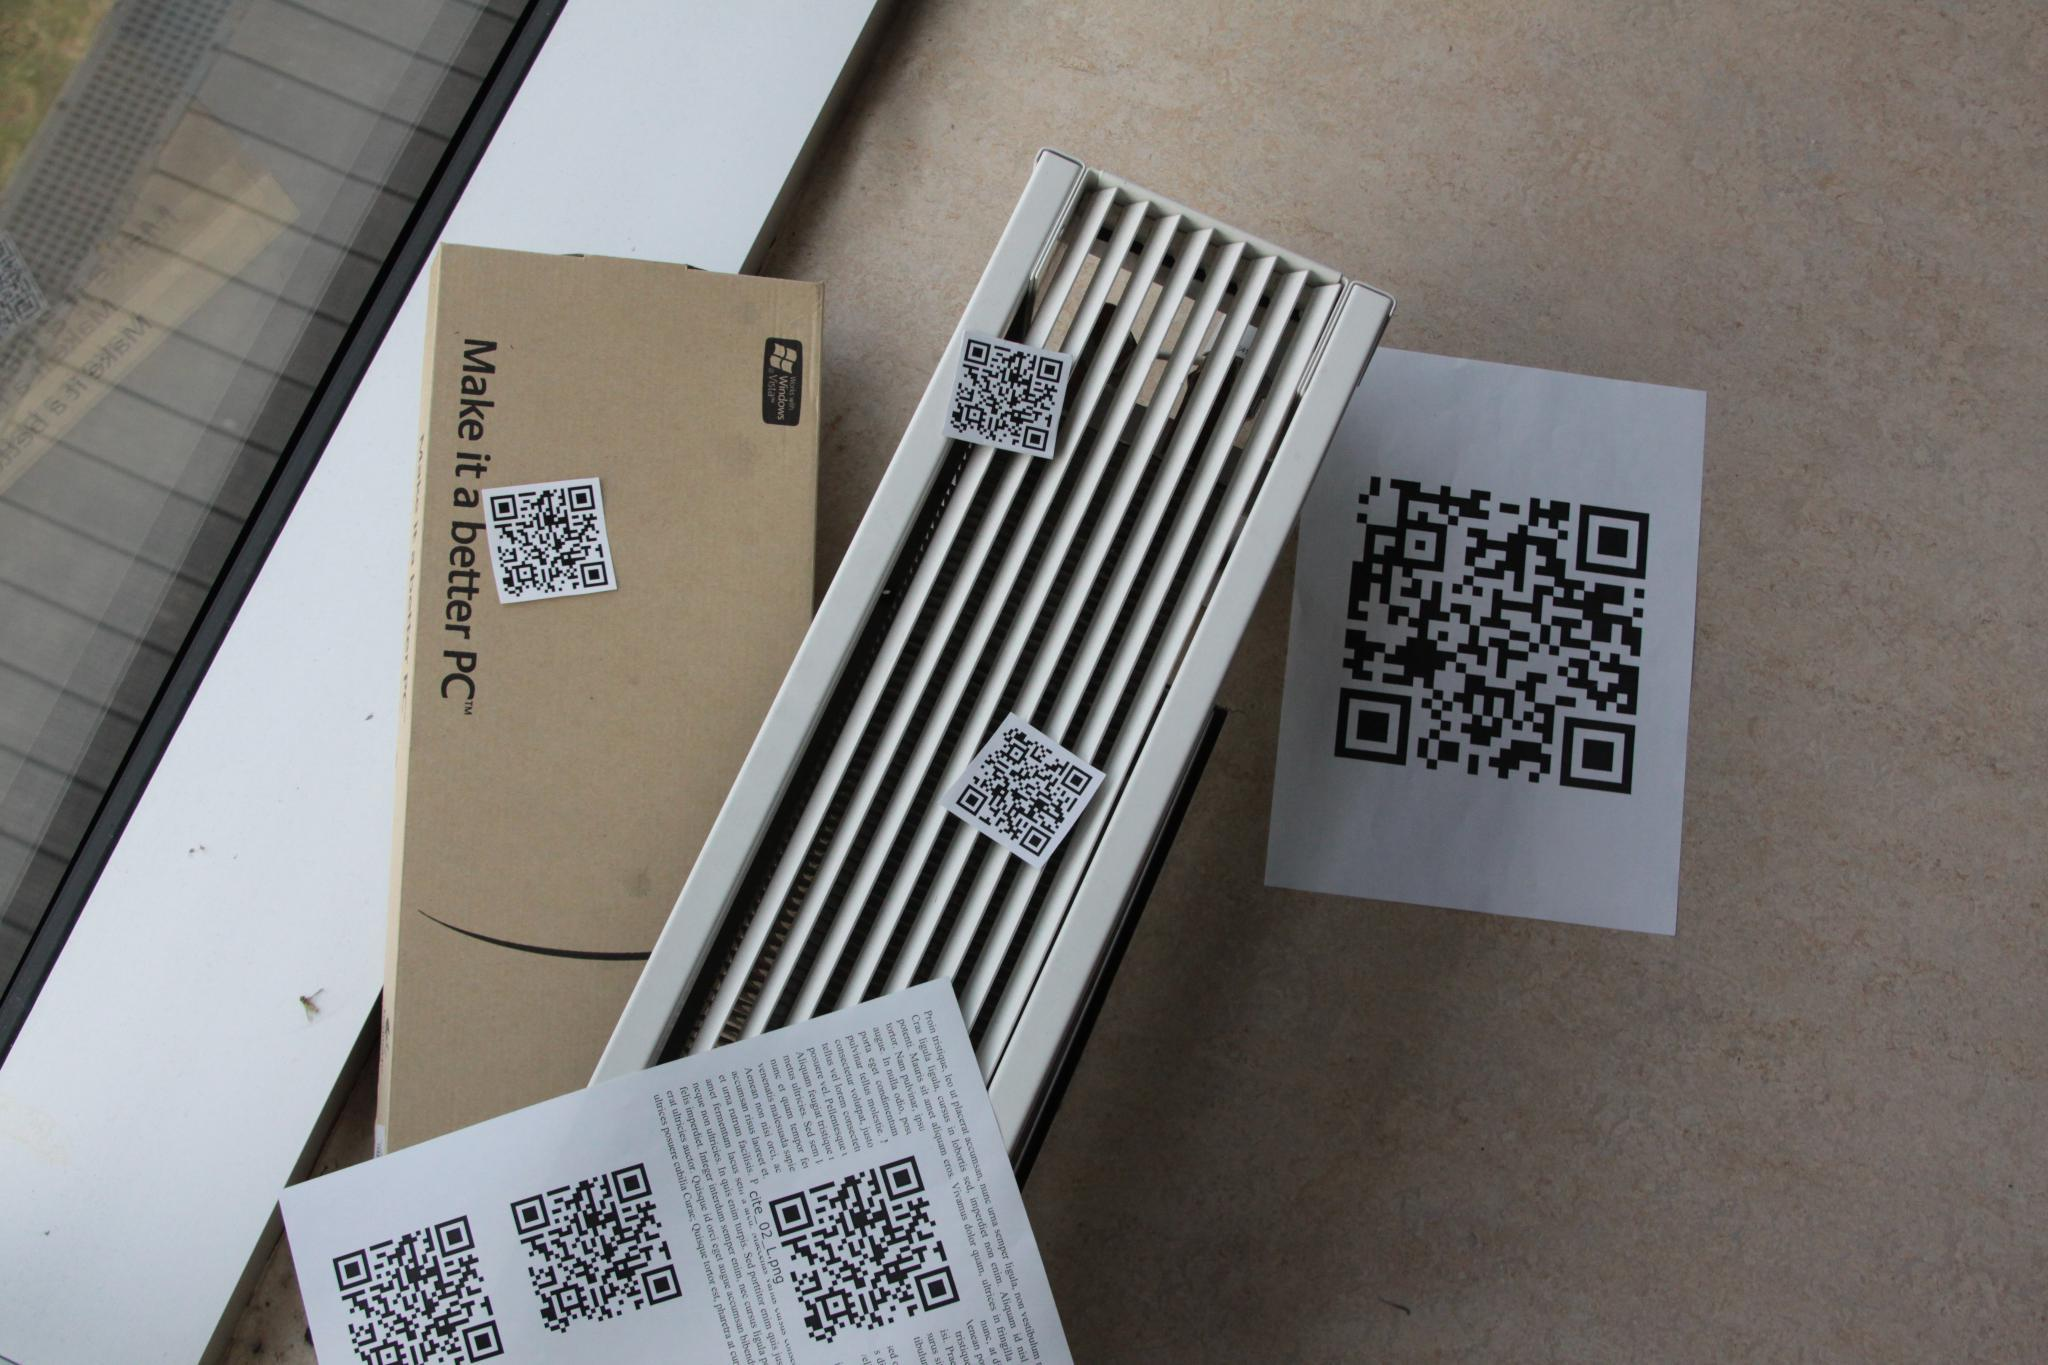Finder pattern: (1549, 702, 1657, 812), (1325, 676, 1422, 778), (1568, 498, 1661, 590), (908, 1258, 965, 1316), (872, 1149, 929, 1208), (766, 1187, 821, 1243), (635, 1252, 687, 1310), (458, 1312, 512, 1365), (507, 1187, 560, 1239), (329, 1242, 381, 1293), (611, 1155, 659, 1204), (432, 1210, 477, 1258), (573, 555, 617, 599), (1016, 815, 1061, 858), (1052, 762, 1098, 801), (953, 778, 993, 823), (560, 478, 598, 513), (1032, 350, 1067, 388), (487, 487, 521, 527), (956, 338, 994, 369), (1023, 422, 1052, 456)
